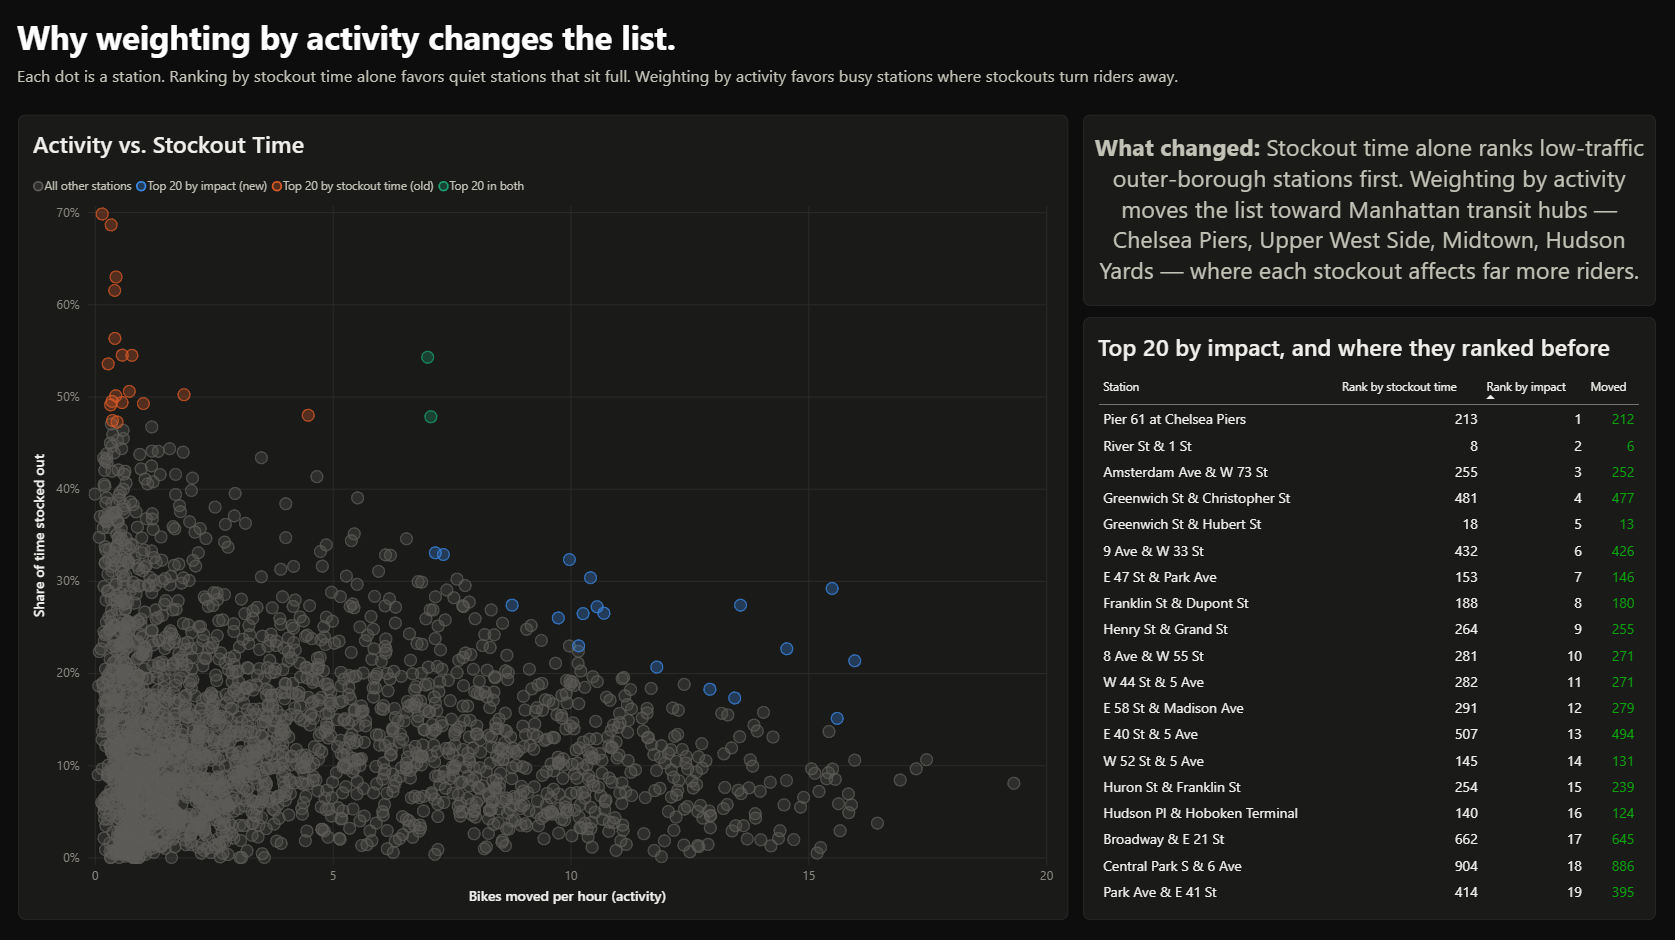

The page's visual inventory and layout, read from the dashboard file:
{"tool":"powerbi","page":{"name":"How Impact","canvas":[1920,1080],"ordinal":1},"visuals":[{"type":"textbox","box":[23,21.7,1200,64],"z":0},{"type":"textbox","title":"Each dot is a station. Ranking by stockout time alone favors quiet stations that sit full. Weighting by activity favors busy stations where stockouts turn riders away.","box":[22.9,78.6,1414.3,42.9],"z":1000},{"type":"scatterChart","title":"Activity vs. Stockout Time","fields":{"Category":["DIM_STATION.STATION_ID"],"Series":["DIM_STATION.Ranking Group"],"X":["Sum(DIM_STATION.BIKES_MOVED_PER_HOUR)"],"Y":["Sum(DIM_STATION.PCT_TIME_STOCKED_OUT)"]},"box":[24,136,1200,920],"z":2000},{"type":"textbox","box":[1241.4,135.7,654.3,218.6],"z":3000},{"type":"tableEx","title":"Top 20 by impact, and where they ranked before","fields":{"Values":["DIM_STATION.STATION_NAME","DIM_STATION.STOCKOUT_TIME_RANK","Sum(DIM_STATION.REBALANCING_PRIORITY_RANK)","Sum(DIM_STATION.Rank Change)"]},"box":[1241.4,367.1,654.3,688.6],"z":4000}]}

Visuals, with their boxes in screenshot pixels (x1, y1, x2, y2), scaled from the page's 1920x1080 canvas onto the 1675x940 screenshot:
textbox: select_region(20, 19, 1067, 75)
"Each dot is a station. Ranking by stockout time alone favors quiet stations that sit full. Weighting by activity favors busy stations where stockouts turn riders away." textbox: select_region(20, 68, 1254, 106)
"Activity vs. Stockout Time" scatterChart: select_region(21, 118, 1068, 919)
textbox: select_region(1083, 118, 1654, 308)
"Top 20 by impact, and where they ranked before" tableEx: select_region(1083, 320, 1654, 919)
